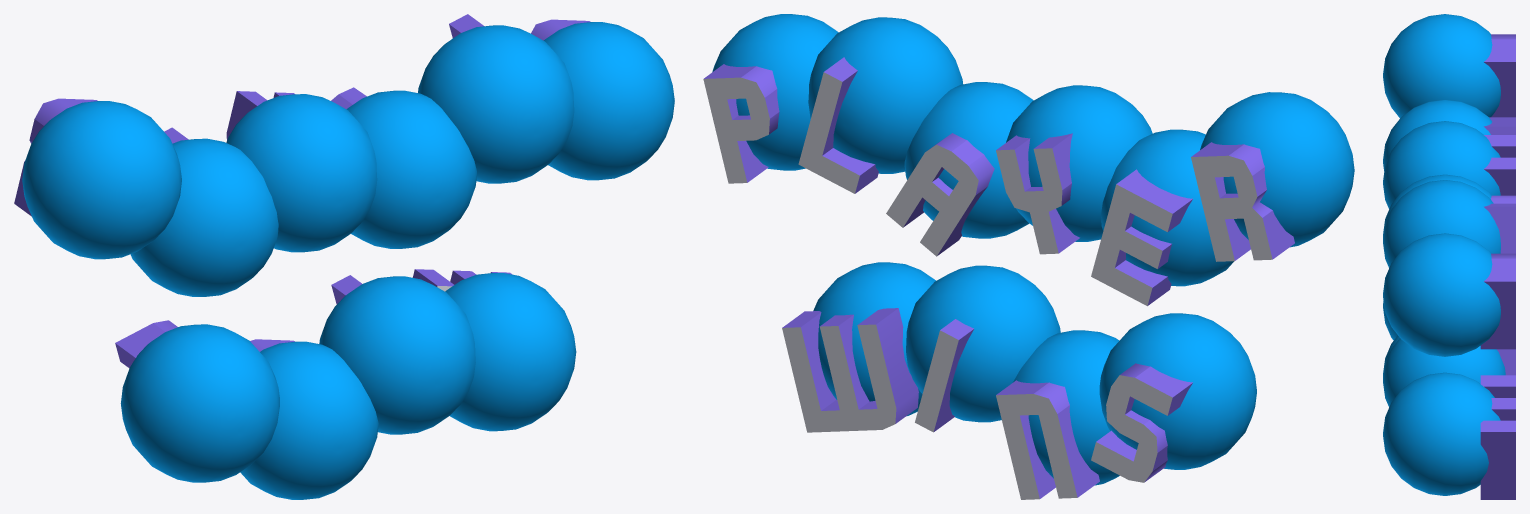
Rendered from player_wins.glb.
The picture shows the model from 3 angles, left to right: view 1: azimuth 30°, elevation 25°; view 2: azimuth 150°, elevation 25°; view 3: azimuth 270°, elevation 25°; orthographic projection. The views are drawn at different scales.
Visible parts, largest first — view 1: sphere (×10), S, R, Y, W; view 2: sphere (×10), W, R, N, E, A, S, P, Y, L, I; view 3: sphere (×8), W, P, R, Y, L, E, I, A.
Boxes of the visible parts, x1,y1,x2,y2 form: sphere (×10): (22, 22, 674, 499); S: (115, 320, 177, 368); R: (14, 98, 97, 216); Y: (226, 91, 294, 140); W: (412, 269, 512, 291); sphere (×10): (712, 14, 1354, 485); W: (782, 308, 918, 432); R: (1191, 142, 1294, 261); N: (996, 380, 1099, 499); E: (1091, 169, 1192, 306); A: (886, 133, 994, 256); S: (1091, 363, 1192, 482); P: (703, 64, 779, 183); Y: (996, 133, 1079, 254); L: (798, 57, 878, 193); I: (915, 319, 973, 432); sphere (×8): (1383, 14, 1505, 495); W: (1480, 375, 1515, 499); P: (1480, 253, 1515, 349); R: (1484, 34, 1515, 117); Y: (1484, 135, 1515, 195); L: (1484, 203, 1515, 253); E: (1484, 117, 1515, 134); I: (1497, 349, 1515, 375); A: (1491, 195, 1515, 203).
Size of the model in its own units: 3.2 by 2.1 by 0.75.
